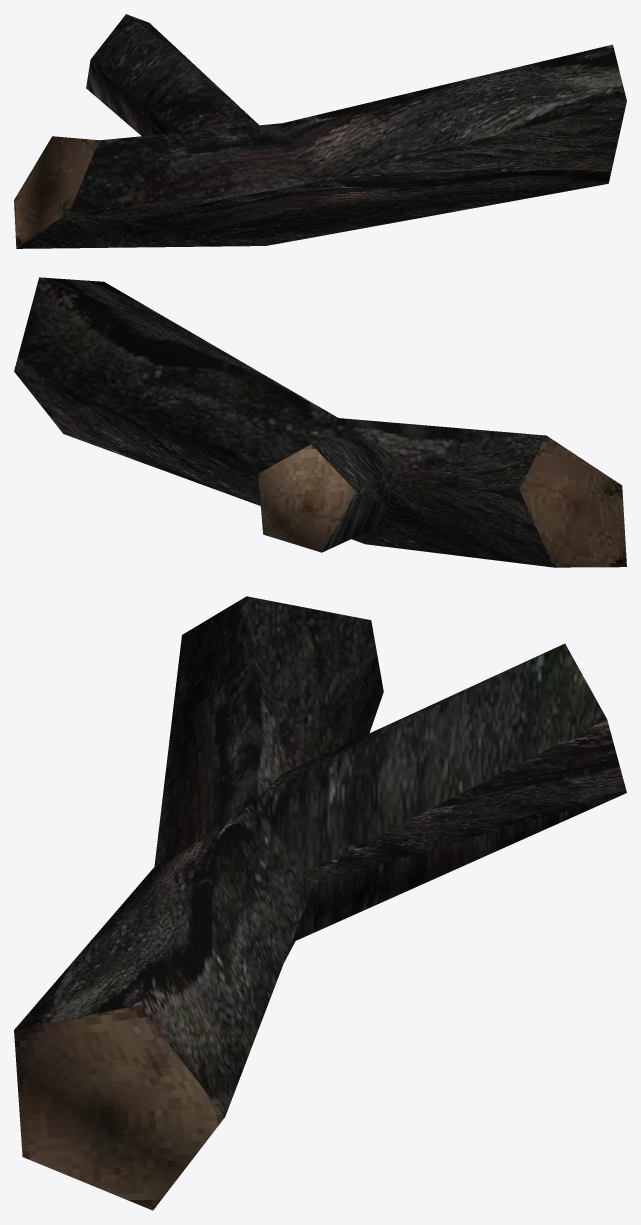
Rendered from PC_LOB_LOG1.glb.
3 renders of one model, top to bottom at view 1: azimuth 30°, elevation 25°; view 2: azimuth 150°, elevation 25°; view 3: azimuth 270°, elevation 25°, orthographic. The views are drawn at different scales.
Parts seen in each view (by area): view 1: Mesh; view 2: Mesh; view 3: Mesh.
Boxes of the visible parts, left/top/right/bottom form: Mesh: left=14, top=14, right=626, bottom=248; Mesh: left=14, top=277, right=626, bottom=567; Mesh: left=14, top=596, right=626, bottom=1210.
Bounding box in the file's own units: 2.09 × 0.5838 × 1.14.
2 materials, 2 textured.
